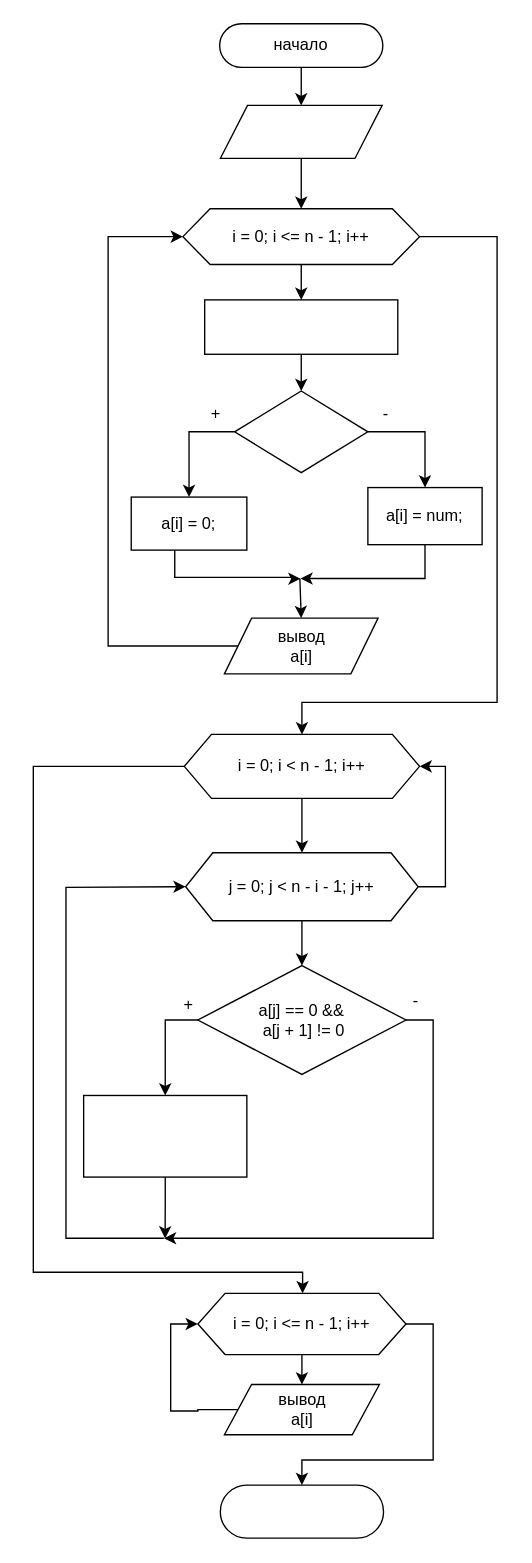
This 532x1563 diagram has some shape labels left out. Here are the shapes that lost their labels. From the top down, the centre of each, then its label:
At (300,131): "ввод n".
At (300,326): "num = rand() % 100 - 50;".
At (300,431): "num <= 0".
At (164,1135): "k = a[j]; a[j] = a[j + 1]; a[j + 1] = k;".
At (301,1511): "конец".
